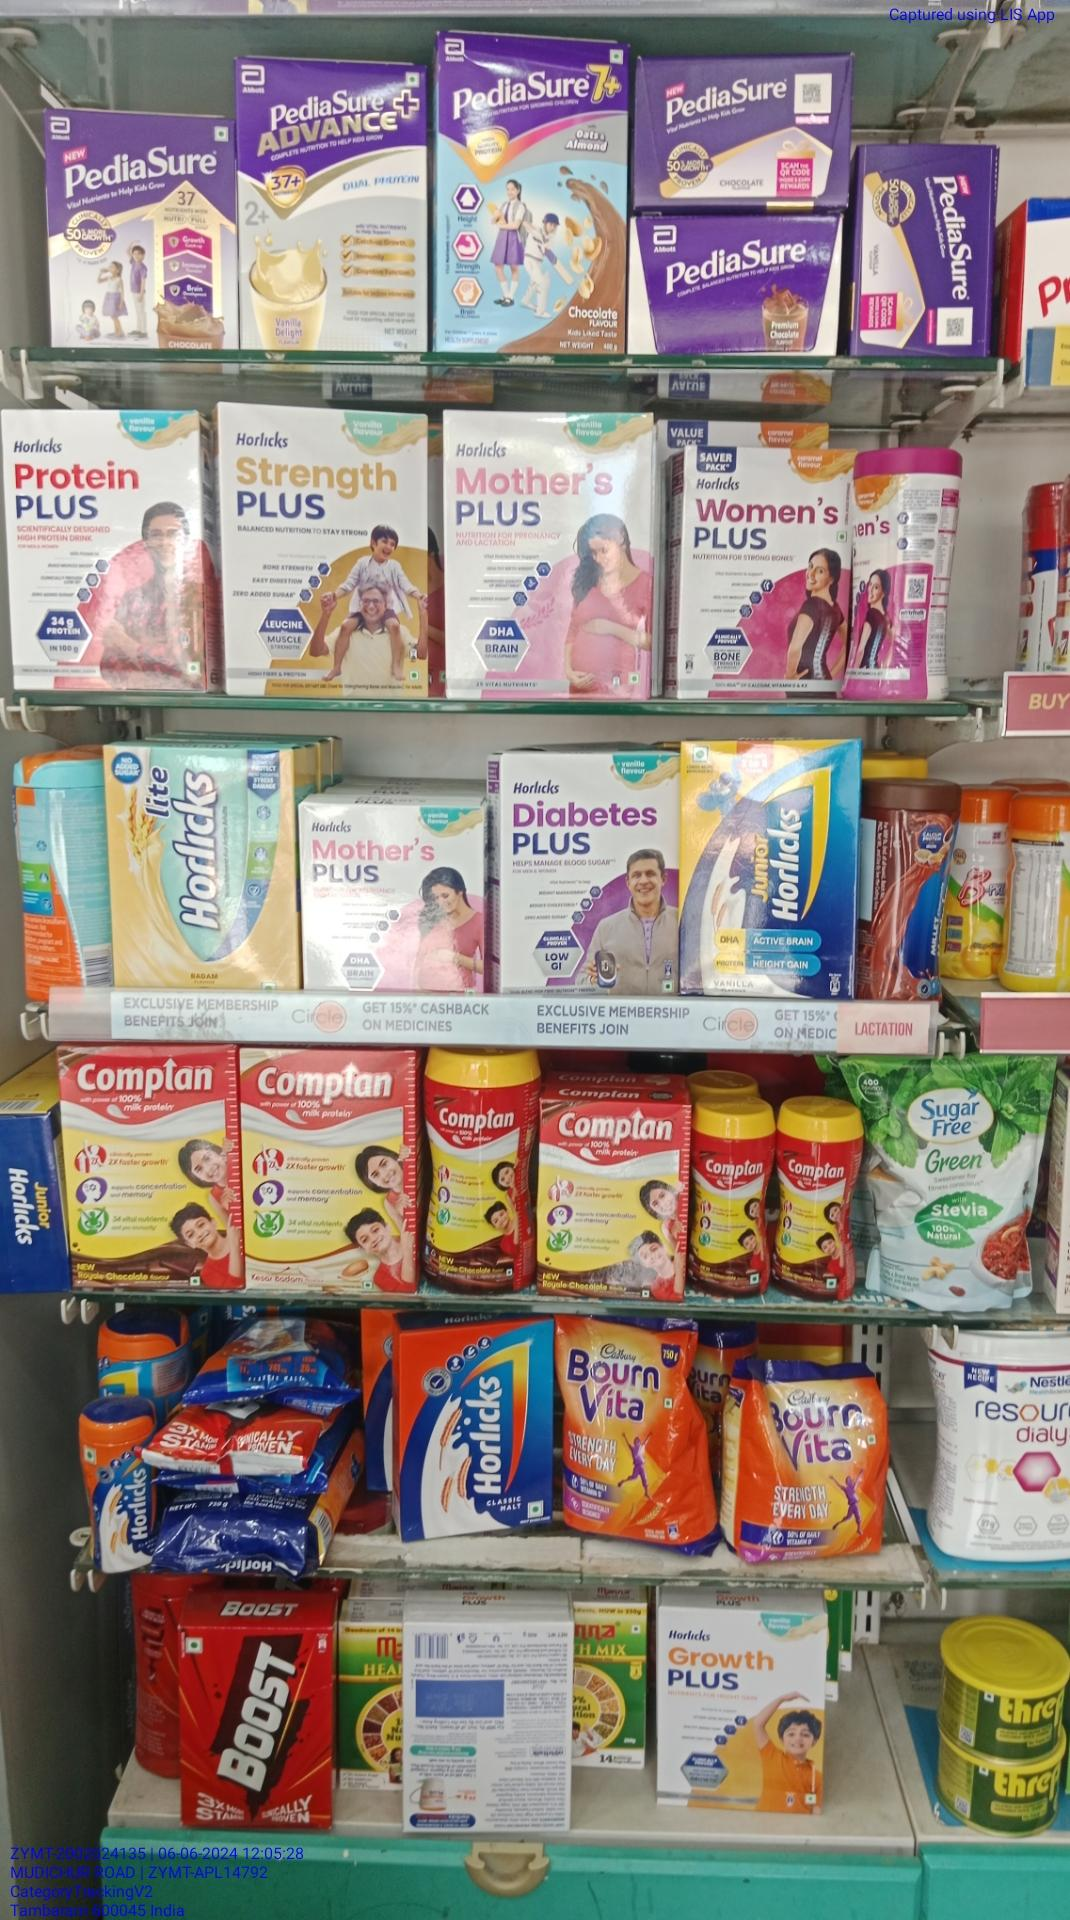COMPLAN_CHOCOLATE_200_GMS_JAR: (696, 1104, 775, 1299), (777, 1104, 851, 1299)
COMPLAN_CHOCOLATE_200_GMS_PACK: (542, 1100, 688, 1302)
COMPLAN_CHOCOLATE_500_GMS_JAR: (424, 1050, 534, 1293)
PEDIASURE_7_PLUS_CHOCOLATE_400_G_PACK: (439, 29, 626, 358)
